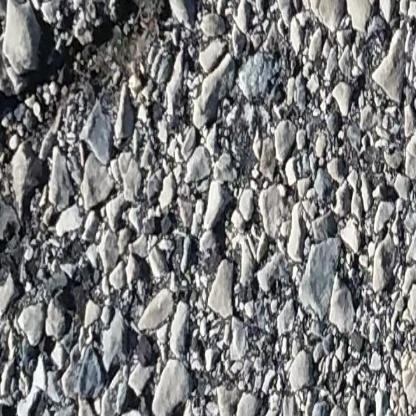Cracks: (0, 0, 209, 277)
